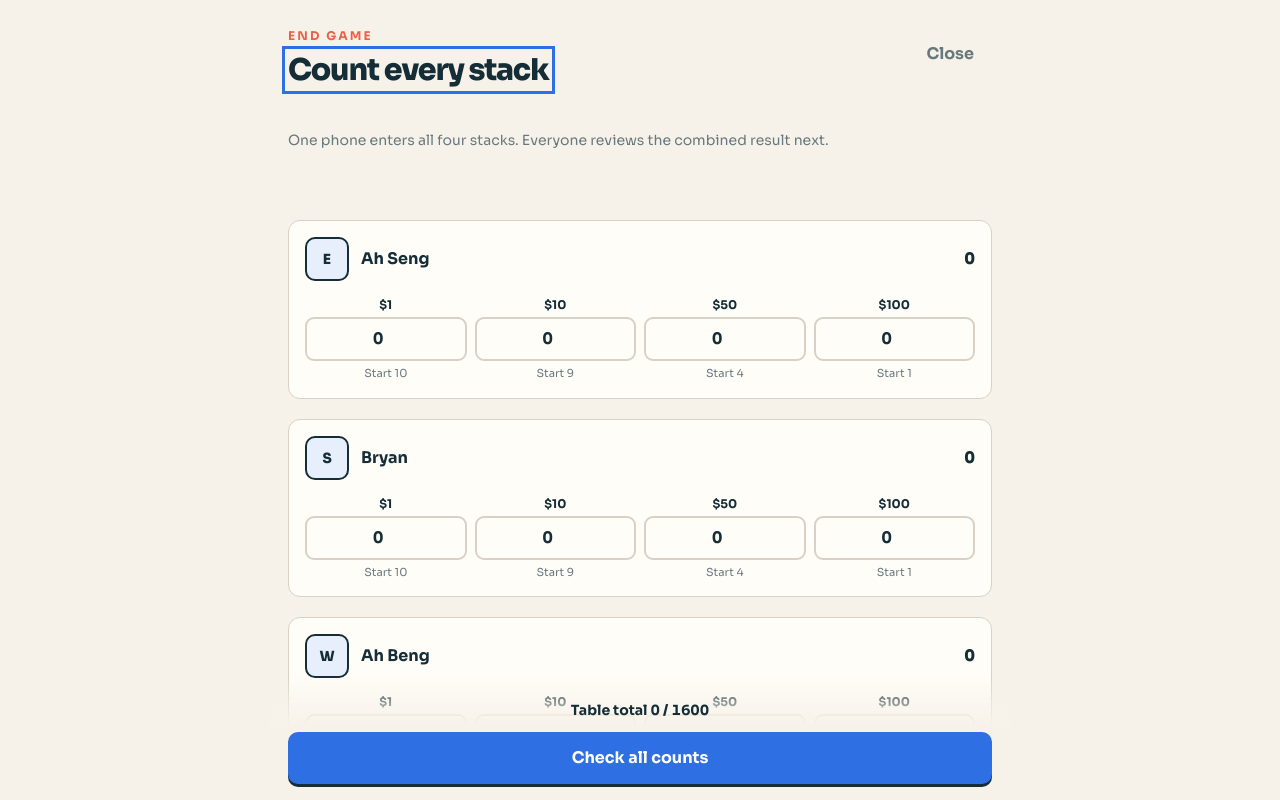
Test: ChipEndFlow count entry › names every failed denomination and preserves edited input after conservation failure
The width and height of the screenshot is (1280, 800).
expect the button "Check all counts" is enabled: met, box 288,732 -> 992,784
Step 1. Replace the text in the number field named "Ah Seng · East · $1 chips" with "17" → (386, 339), box 305,317 -> 466,361
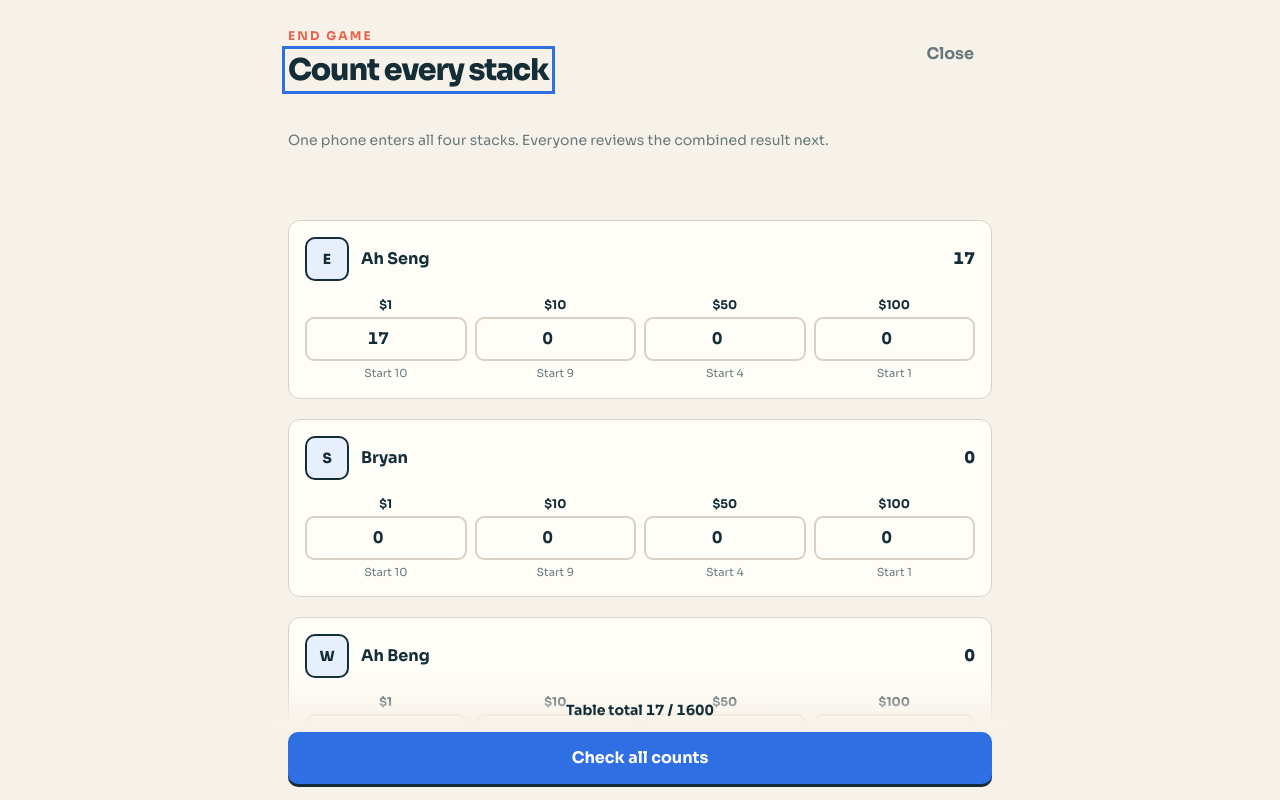
Step 2. Click the button "Check all counts" → (640, 758), box 288,732 -> 992,784
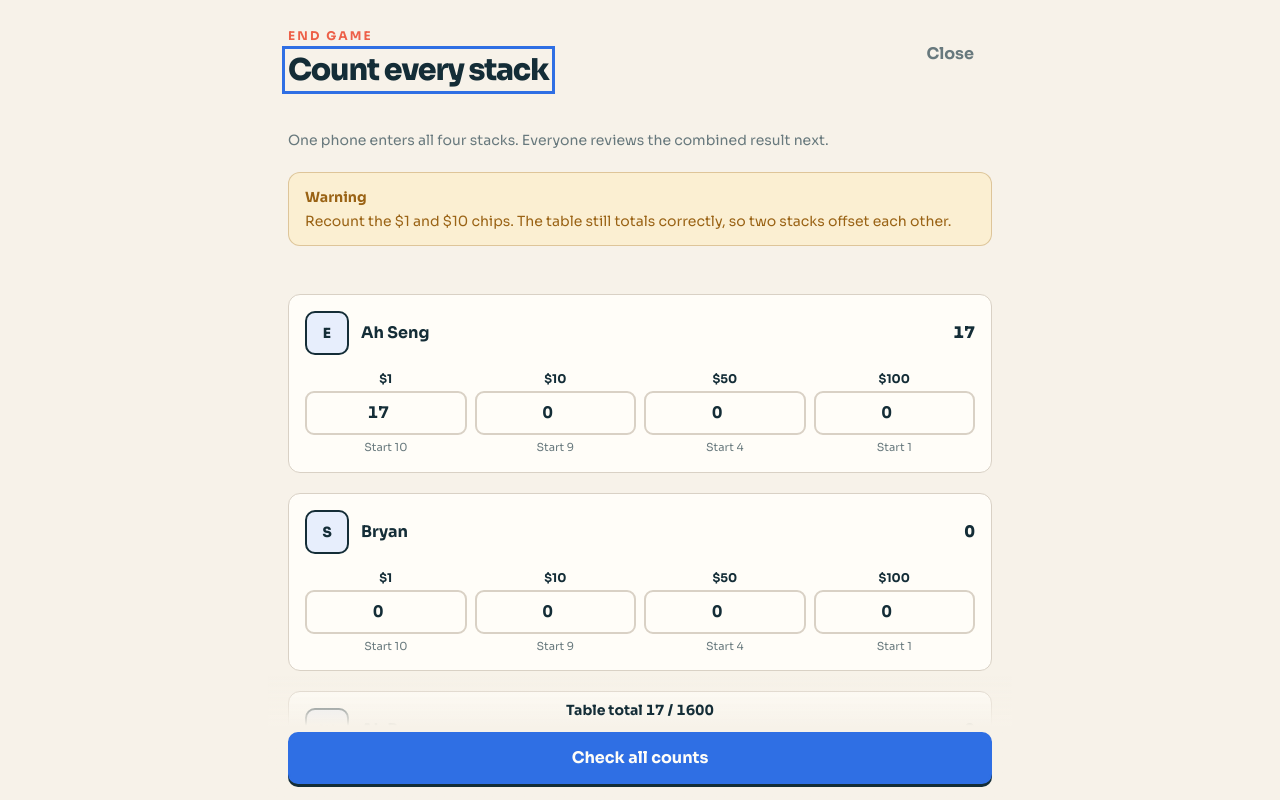
expect the text "Recount the $1 and $10 chips. The table still totals correctly, so two stacks offset each other." is shown: met, box 305,212 -> 952,230
